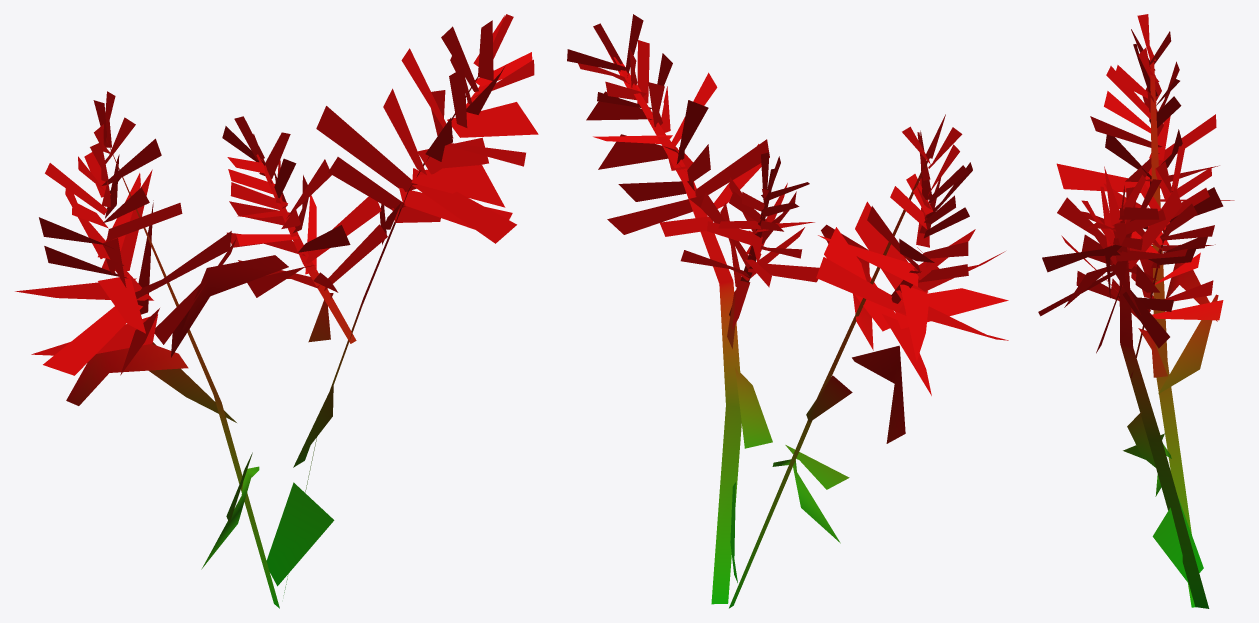
The model's file is Var2_LOD2.fbx.
3 views of the same model, side by side, from view 1: azimuth 30°, elevation 25°; view 2: azimuth 150°, elevation 25°; view 3: azimuth 270°, elevation 25° (orthographic). The views are drawn at different scales.
Parts seen in each view (by area): view 1: _cb43_Var2_LOD2; view 2: _cb43_Var2_LOD2; view 3: _cb43_Var2_LOD2.
Boxes of the visible parts, bbox=[...] form: _cb43_Var2_LOD2: bbox=[15, 14, 538, 608]; _cb43_Var2_LOD2: bbox=[567, 14, 1008, 608]; _cb43_Var2_LOD2: bbox=[1038, 14, 1234, 608].
Size of the model in its own units: 34.22 by 39.28 by 14.43.
